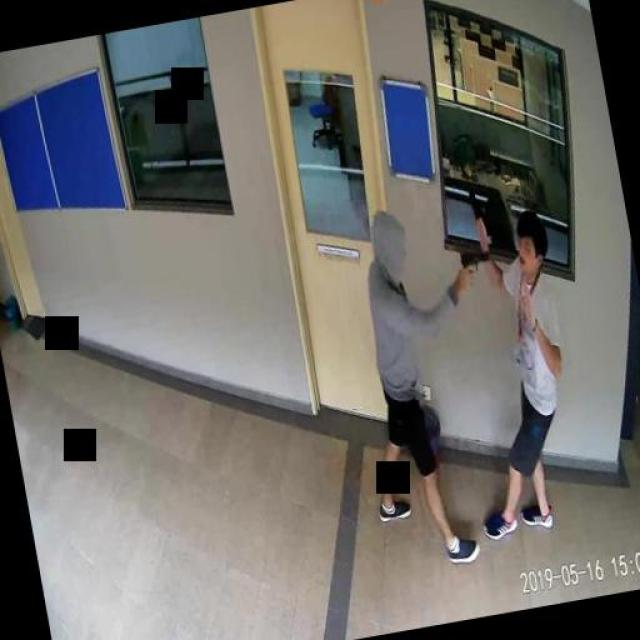gun: (456, 245, 492, 285)
